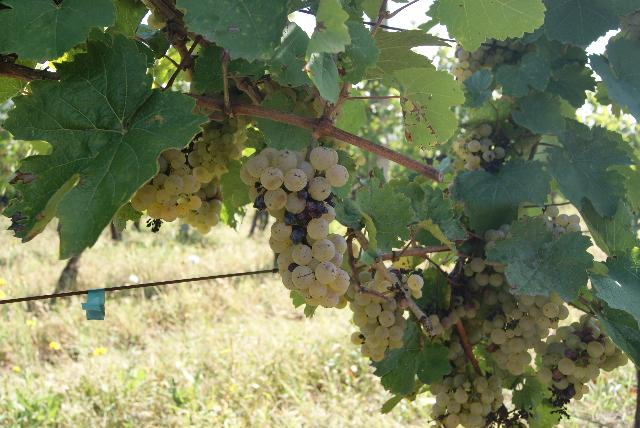grapes: (240, 146, 350, 308), (535, 315, 626, 411), (185, 115, 251, 234), (484, 295, 559, 375), (346, 271, 410, 361), (131, 149, 202, 222), (430, 372, 502, 428)
